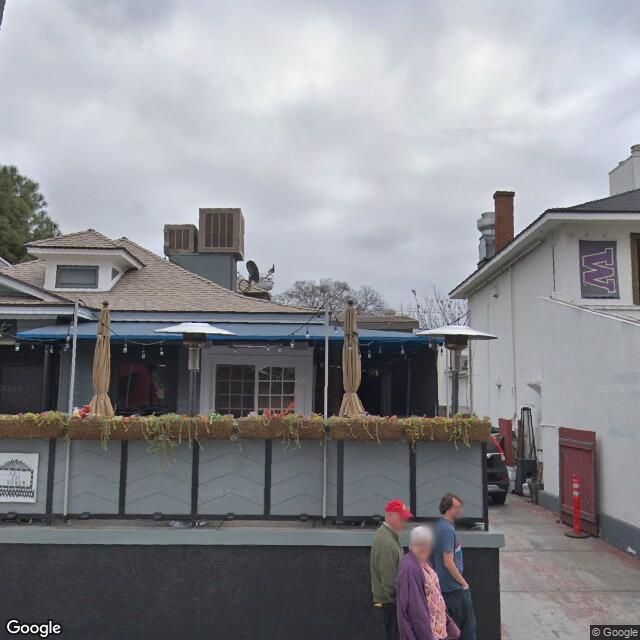window: (209, 355, 301, 421)
